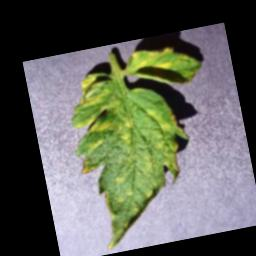Leaf_Mold: (60, 56, 207, 253), (123, 39, 206, 96)
